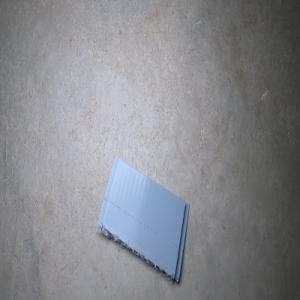PlasticPart: (94, 155, 189, 283)
